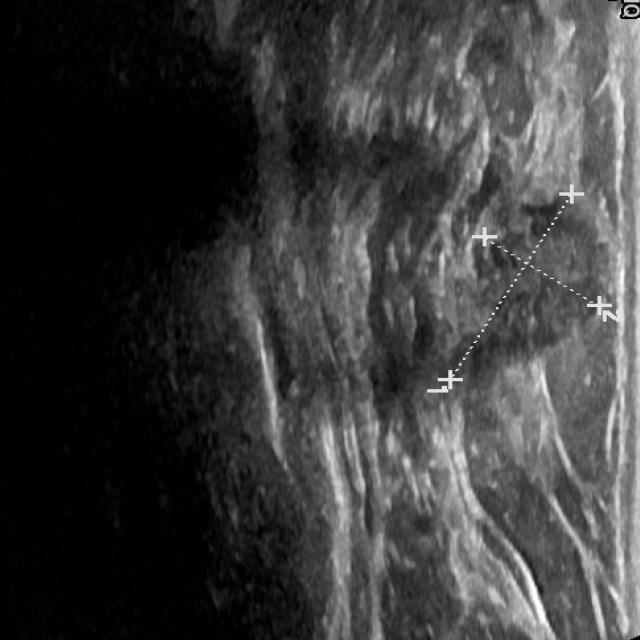Benign: (468, 204, 608, 366)
